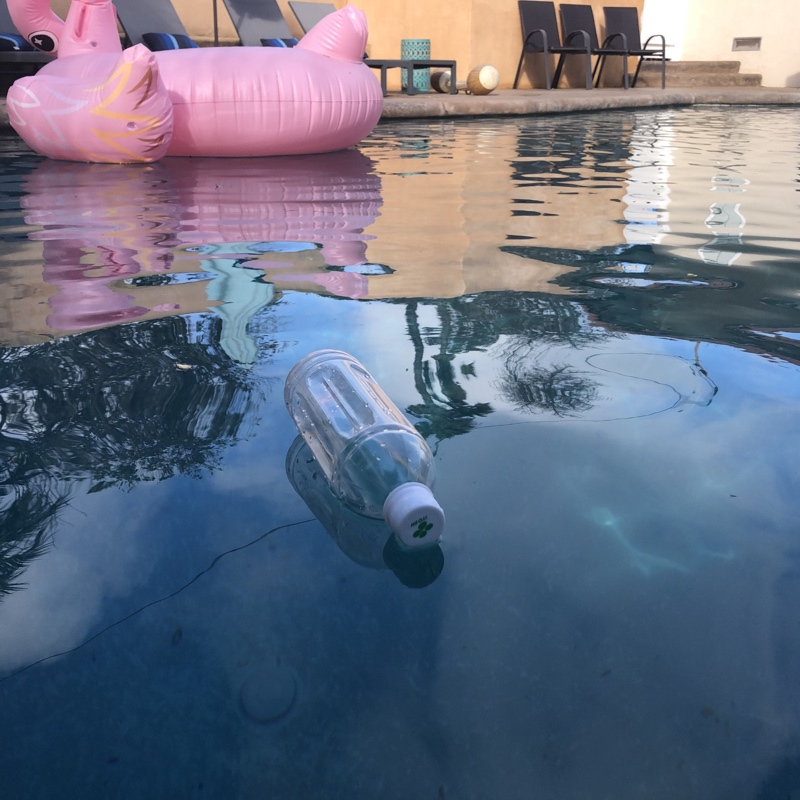Plastic Bottle: (280, 346, 450, 559)
